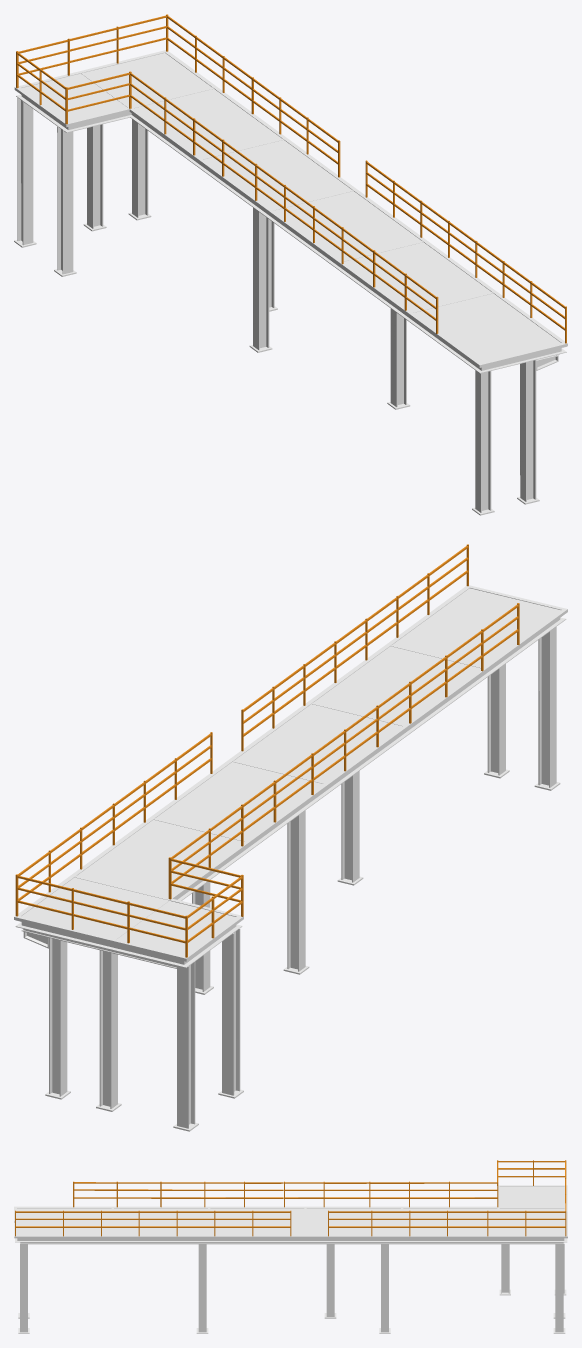
The model's file is SM_H_Building_Tide_PrisonMain_13b_ATLAS.fbx.
3 renders of one model, top to bottom at view 1: azimuth 30°, elevation 25°; view 2: azimuth 150°, elevation 25°; view 3: azimuth 270°, elevation 25°, orthographic. The views are drawn at different scales.
Visible parts, largest first — view 1: SM_H_Building_Tide_PrisonMain_13b_ATLAS; view 2: SM_H_Building_Tide_PrisonMain_13b_ATLAS; view 3: SM_H_Building_Tide_PrisonMain_13b_ATLAS.
Part boxes in pixels (x1,y1,x2,y2): SM_H_Building_Tide_PrisonMain_13b_ATLAS: [14, 14, 567, 515]; SM_H_Building_Tide_PrisonMain_13b_ATLAS: [14, 544, 567, 1131]; SM_H_Building_Tide_PrisonMain_13b_ATLAS: [14, 1160, 567, 1333].
Size of the model in its own units: 508 by 2292 by 599.
